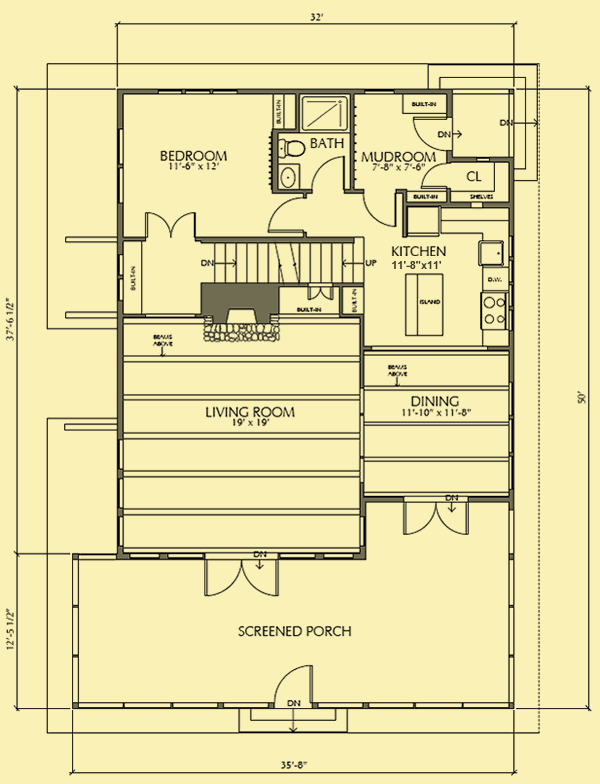door: (201, 557, 284, 601), (404, 497, 469, 537), (271, 665, 317, 710), (410, 111, 455, 155), (143, 210, 201, 244), (357, 187, 398, 230), (266, 196, 307, 234), (306, 155, 348, 192), (419, 163, 451, 194)
kitchen_bar: (401, 270, 445, 337)
large_sink: (273, 133, 312, 161)
sink: (475, 238, 510, 268)
small_sink: (277, 163, 301, 194)
stairs: (194, 237, 380, 283)
tub: (299, 90, 353, 132)
window: (112, 435, 127, 549), (114, 124, 128, 209), (156, 84, 239, 97), (112, 252, 128, 300), (356, 513, 367, 546)
